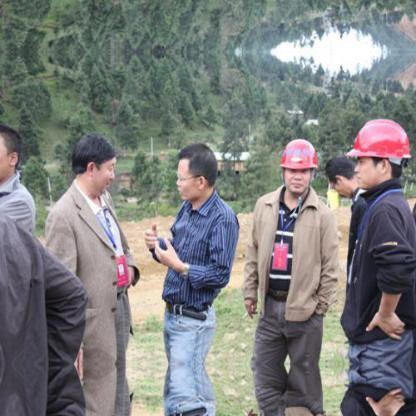helmet: (345, 119, 414, 160), (278, 138, 319, 171)
